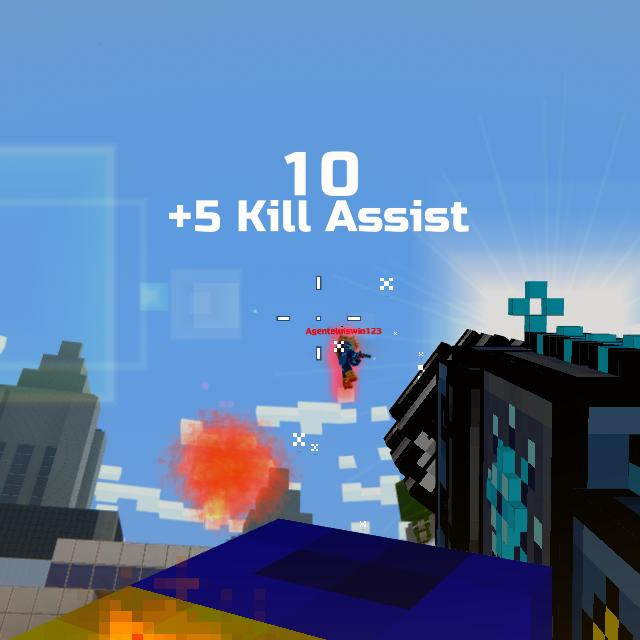Enemy: (335, 333, 363, 388)
